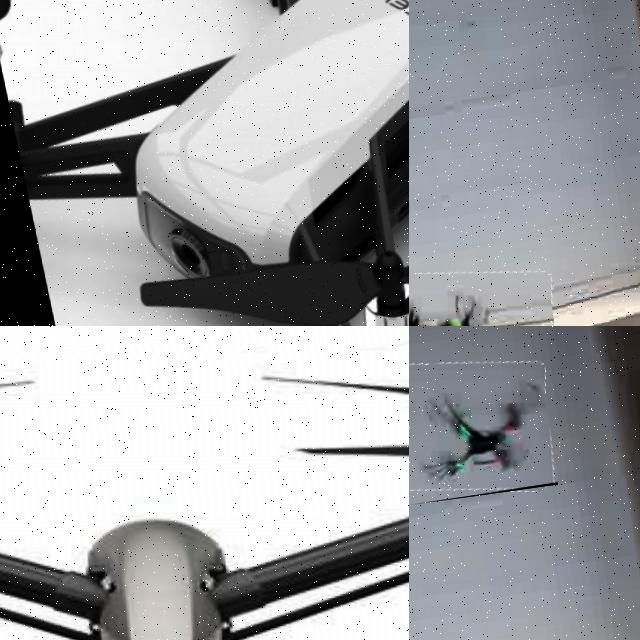drone: (0, 0, 409, 326), (0, 326, 409, 640), (409, 348, 558, 506), (409, 255, 566, 326)
